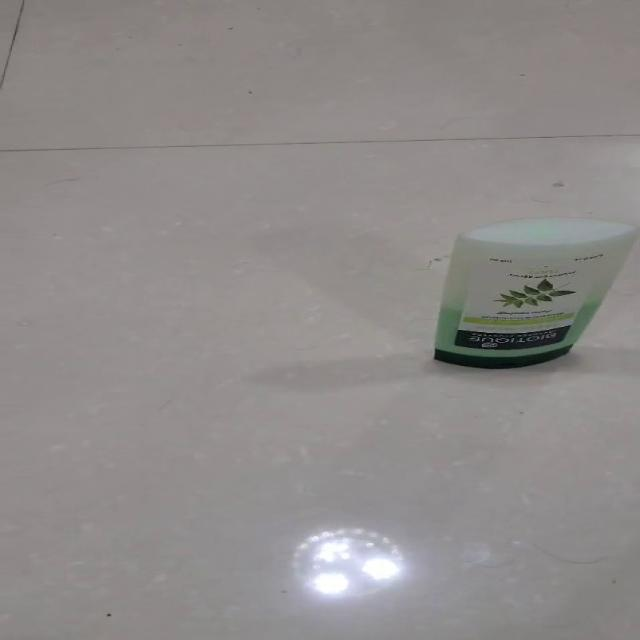plastic: (431, 215, 636, 369)
